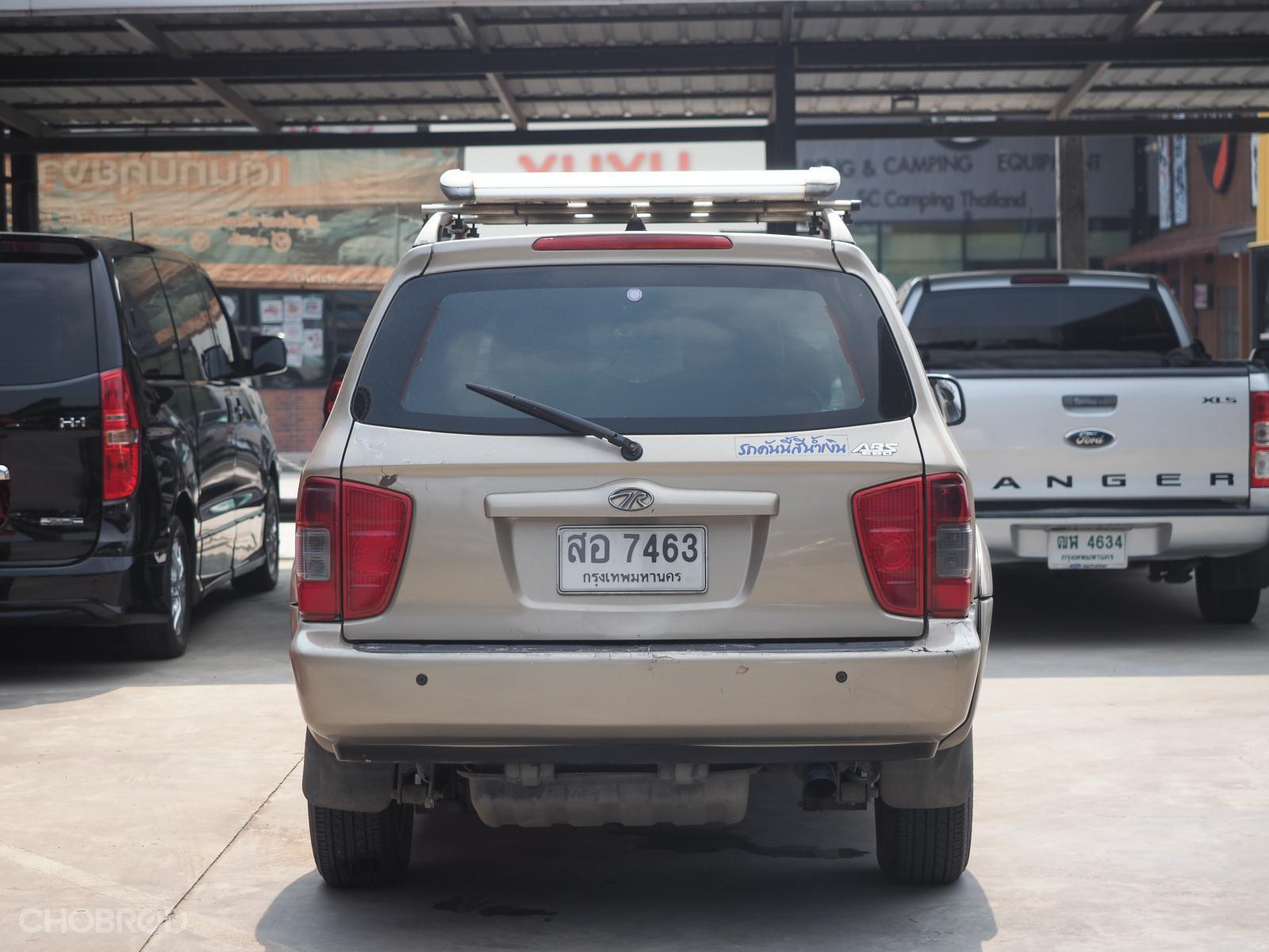license-plate: (557, 518, 709, 596), (1046, 526, 1132, 576)
